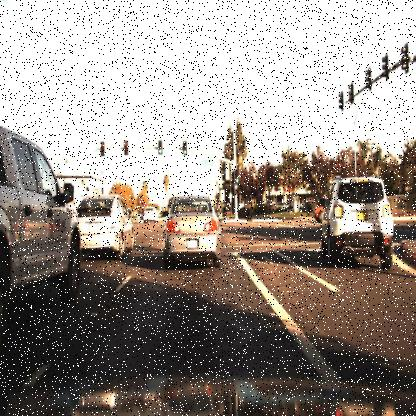car: (0, 110, 83, 334), (316, 171, 403, 273), (152, 182, 233, 280), (73, 194, 135, 259), (49, 160, 113, 206), (10, 186, 40, 228), (312, 195, 336, 224), (140, 197, 158, 229), (312, 198, 325, 230)
trafficLight: (123, 135, 131, 162), (99, 136, 107, 158), (157, 138, 164, 158)
trafficLight-Green: (178, 135, 192, 167), (231, 166, 239, 192), (155, 138, 163, 162), (233, 165, 240, 184)
trafficLight-Red: (181, 136, 189, 158)
trafficLight-RedLeft: (98, 132, 108, 160)
